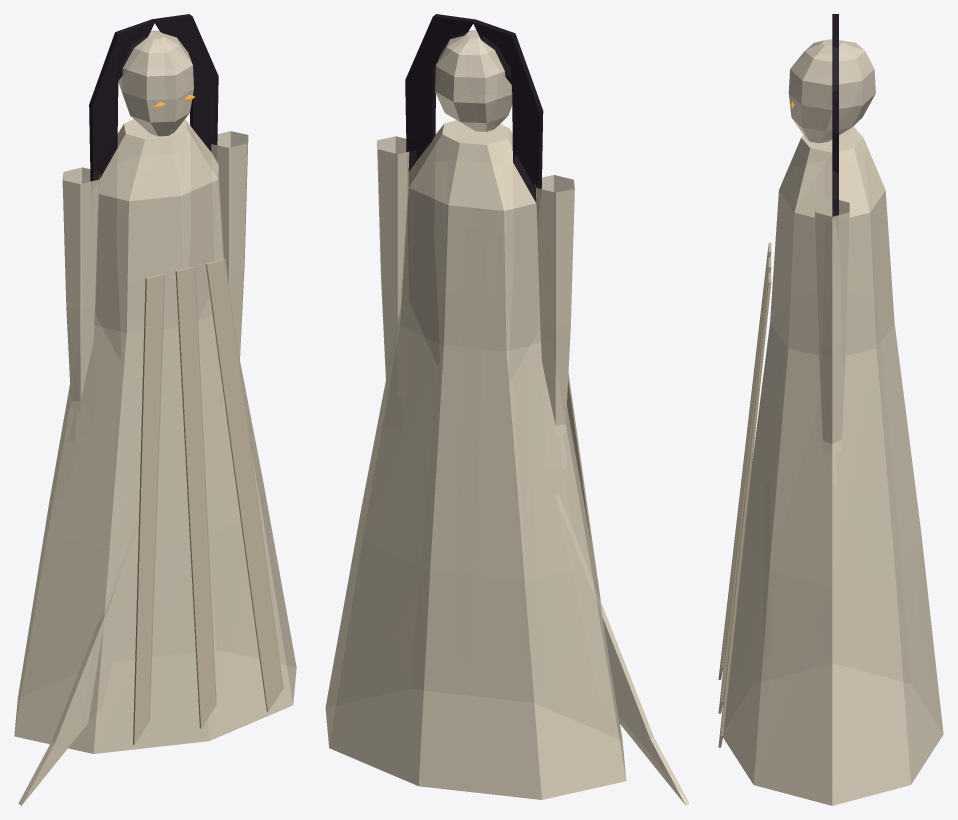
Rendered from anima_blanca.glb.
3 renders of one model, left to right at view 1: azimuth 30°, elevation 25°; view 2: azimuth 150°, elevation 25°; view 3: azimuth 270°, elevation 25°, orthographic. The views are drawn at different scales.
Visible parts, largest first — view 1: vestido_blanco, pliegue_largo (×3), cabello_pesado (×2), object 6, object 1, object 4, cola_asimetrica; view 2: vestido_blanco, cabello_pesado (×2), object 6, object 1, object 4, cola_asimetrica, pliegue_largo; view 3: vestido_blanco, object 4, object 1, pliegue_largo (×3), cabello_pesado.
Boxes of the visible parts, left/top/right/bottom form: vestido_blanco: left=14, top=119, right=296, bottom=753; pliegue_largo (×3): left=133, top=259, right=283, bottom=744; cabello_pesado (×2): left=89, top=14, right=218, bottom=181; object 6: left=62, top=167, right=99, bottom=401; object 1: left=118, top=30, right=193, bottom=136; object 4: left=211, top=131, right=248, bottom=362; cola_asimetrica: left=18, top=579, right=119, bottom=805; vestido_blanco: left=325, top=120, right=626, bottom=799; cabello_pesado (×2): left=405, top=14, right=543, bottom=202; object 6: left=535, top=175, right=574, bottom=425; object 1: left=435, top=29, right=512, bottom=131; object 4: left=377, top=136, right=409, bottom=382; cola_asimetrica: left=600, top=600, right=689, bottom=805; pliegue_largo: left=567, top=373, right=600, bottom=600; vestido_blanco: left=723, top=127, right=943, bottom=805; object 4: left=815, top=198, right=849, bottom=443; object 1: left=788, top=39, right=875, bottom=143; pliegue_largo (×3): left=718, top=242, right=771, bottom=747; cabello_pesado: left=832, top=28, right=838, bottom=216.
Bounding box in the file's own units: 0.83 × 1.85 × 0.506.
